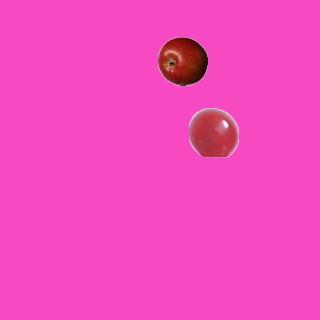Apple Braeburn: (157, 36, 207, 86)
Redcurrant: (188, 107, 238, 157)
